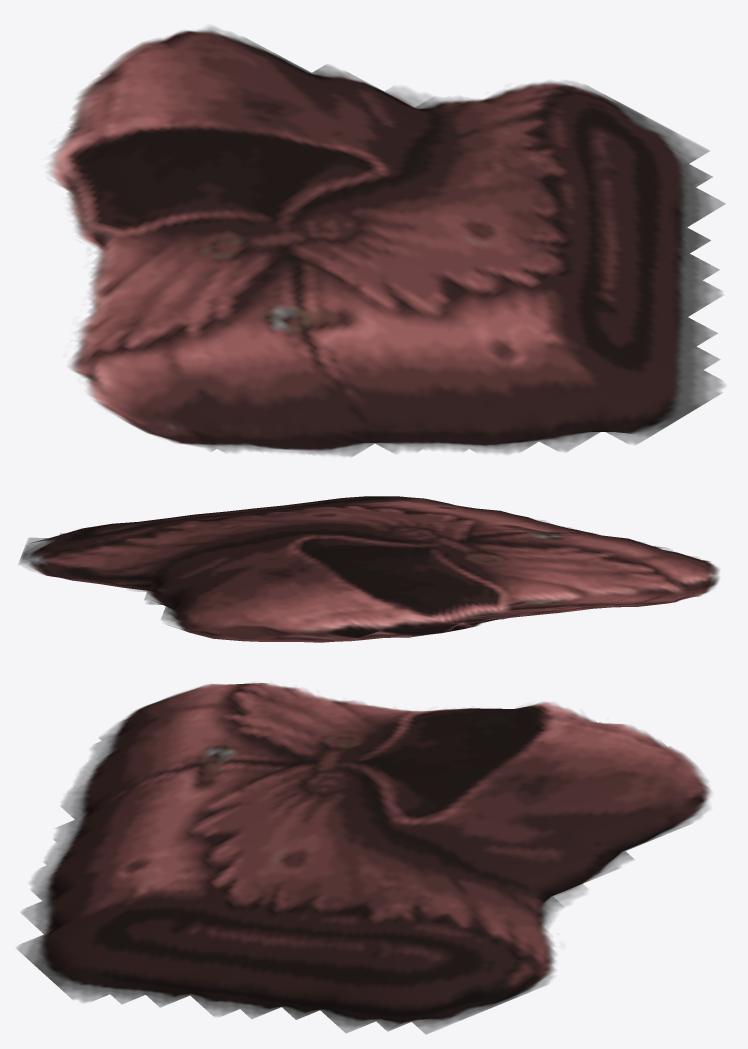
File: drop_mantle.glb
3 renders of one model, top to bottom at view 1: azimuth 30°, elevation 25°; view 2: azimuth 150°, elevation 25°; view 3: azimuth 270°, elevation 25°, orthographic. The views are drawn at different scales.
Parts seen in each view (by area): view 1: drop_mantle; view 2: drop_mantle; view 3: drop_mantle.
Part boxes in pixels (x1,y1,x2,y2): drop_mantle: (49, 26, 725, 456); drop_mantle: (18, 496, 719, 642); drop_mantle: (17, 683, 711, 1034).
Size of the model in its own units: 0.5502 by 0.111 by 0.5007.
1 material, 1 textured.
